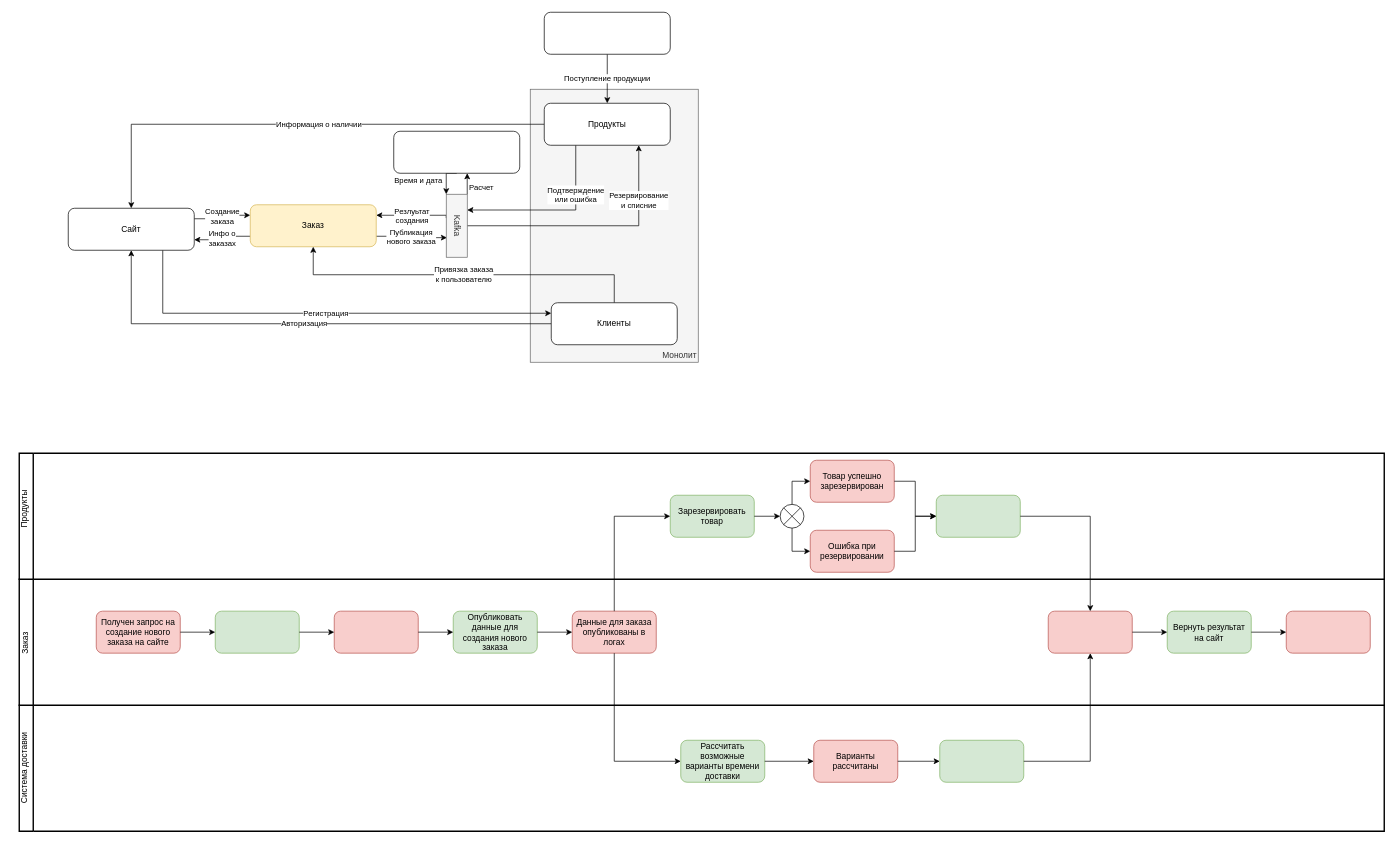
Image size: 1397x844. Some labels were removed from this diagram. The shapes that lost their labels are listed below. From the top down, each one's box as (x1, y1, x2, y2) in pixels, then its label:
(544, 12, 670, 54): Склад
(393, 131, 520, 173): Системы доставки
(936, 495, 1020, 537): Опубликовать результат
(215, 610, 299, 653): Получить данные клиента
(334, 610, 418, 653): Данные клиента получвены из модулья "Клиенты"
(1048, 610, 1132, 653): Результаты работы модулей опубликованы
(1286, 610, 1370, 653): Пользователь получил ответ
(939, 740, 1024, 782): Опубликовать дату и время по ИД заказа
